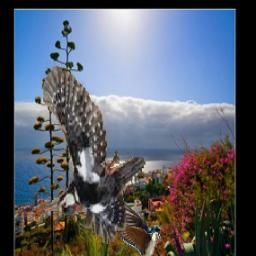Swallow: (111, 202, 162, 256)
Woodpecker: (40, 59, 145, 245)
